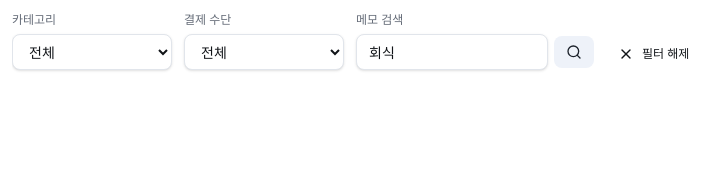
it: TransactionFilterBar - 거래 목록 필터 › 메모 검색 › 검색어를 지우고 제출하면 조건이 해제된다
The width and height of the screenshot is (706, 172).
Clear the search field labelled "메모 검색" at (452, 52), box top-left (356, 34), bottom-right (548, 70)
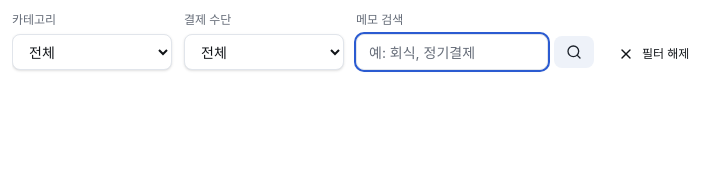
Click the button named "검색".
click(574, 52)  # box top-left (554, 36), bottom-right (594, 68)
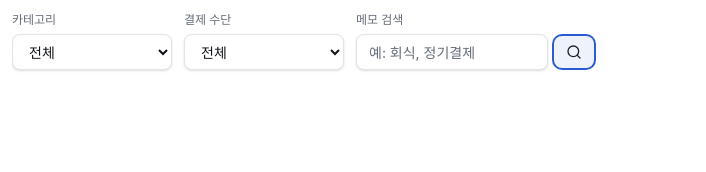
Check: the button "필터 해제" is gone
